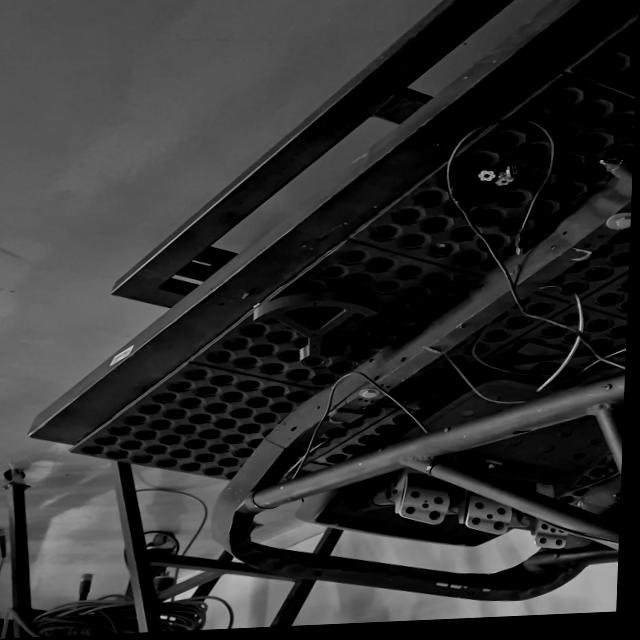haptic: (248, 288, 380, 371)
